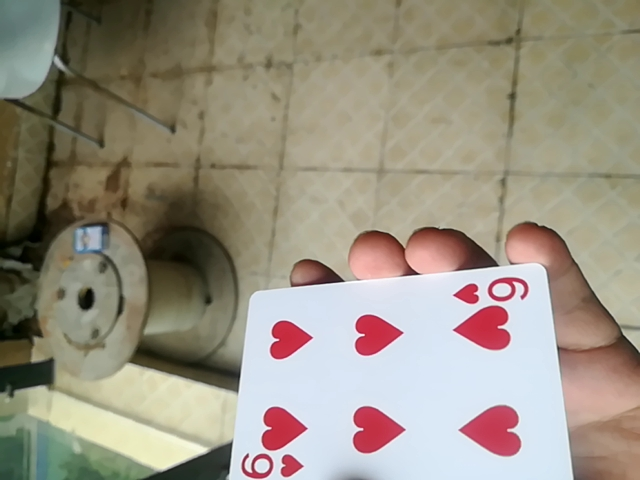hx 6: (226, 264, 578, 479)
